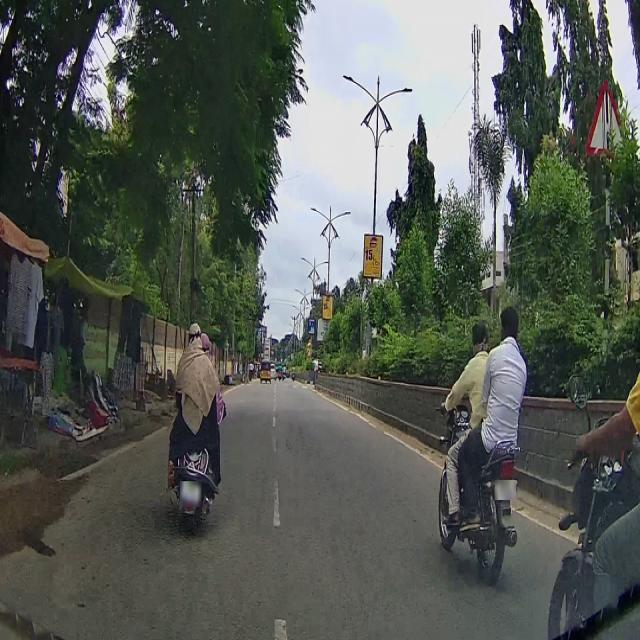gap-in-median: (586, 84, 623, 152)
